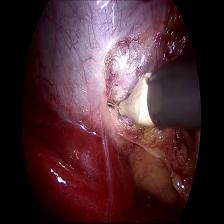Hook: (105, 71, 162, 132)
